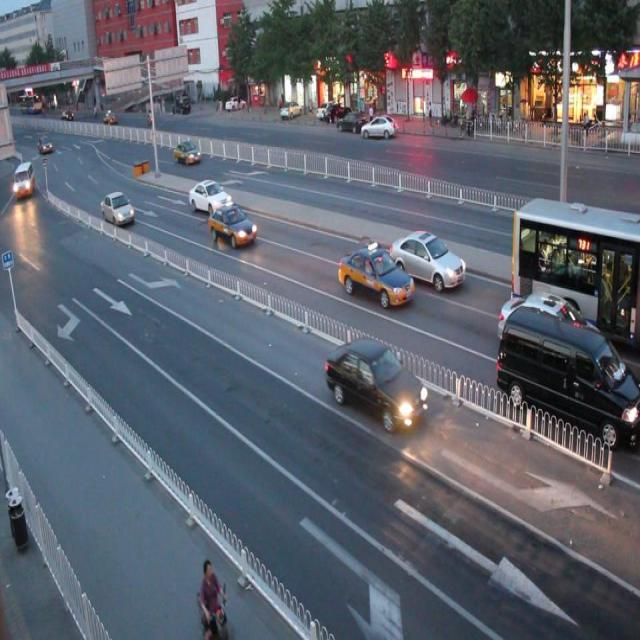car: (326, 336, 426, 436), (498, 290, 603, 365), (336, 244, 414, 308), (390, 228, 465, 292), (209, 202, 258, 248), (189, 178, 231, 213), (101, 193, 136, 228), (173, 138, 202, 165)
truck: (496, 300, 640, 446)
van: (510, 193, 640, 350)
